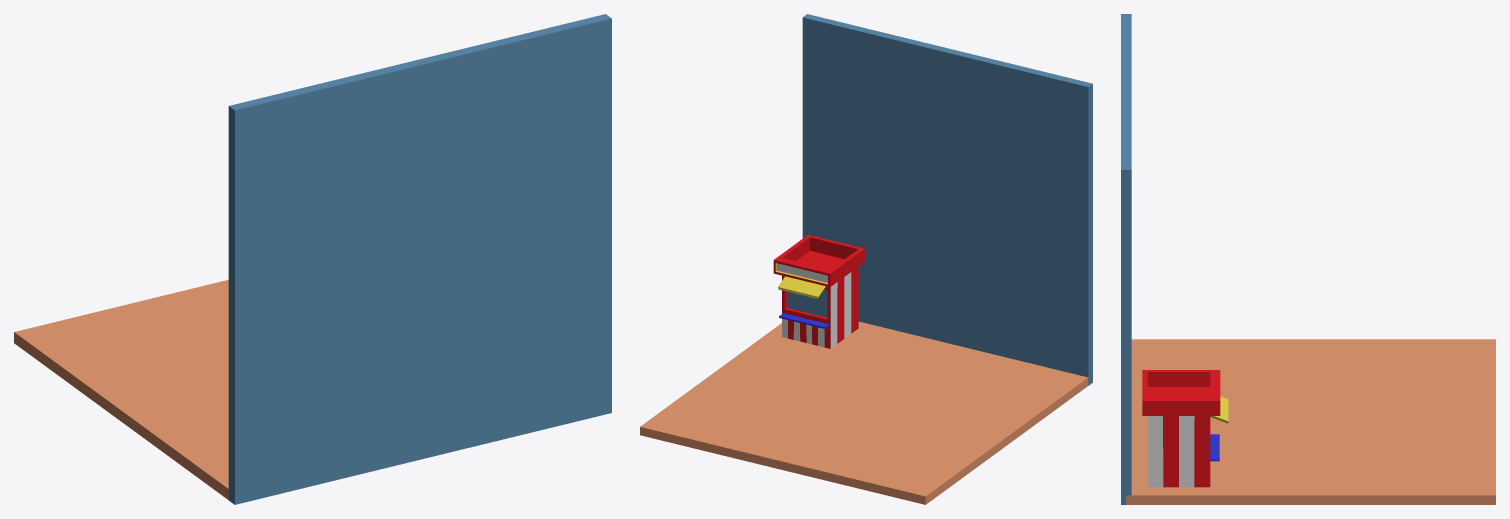
File: DEBUT NIVEAU.fbx
3 renders of one model, left to right at view 1: azimuth 30°, elevation 25°; view 2: azimuth 150°, elevation 25°; view 3: azimuth 270°, elevation 25°, orthographic. The views are drawn at different scales.
Parts seen in each view (by area): view 1: Plane.001, Plane; view 2: Plane.001, Plane, Cube; view 3: Plane, Cube, Plane.001.
Part boxes in pixels (x1,y1,x2,y2): Plane.001: (228,14,611,504); Plane: (14,280,228,499); Plane.001: (802,14,1092,385); Plane: (640,321,1088,504); Cube: (773,234,864,348); Plane: (1126,339,1495,504); Cube: (1142,370,1228,487); Plane.001: (1121,14,1131,504).
Bounding box in the file's own units: 1177 × 1177 × 1194.
